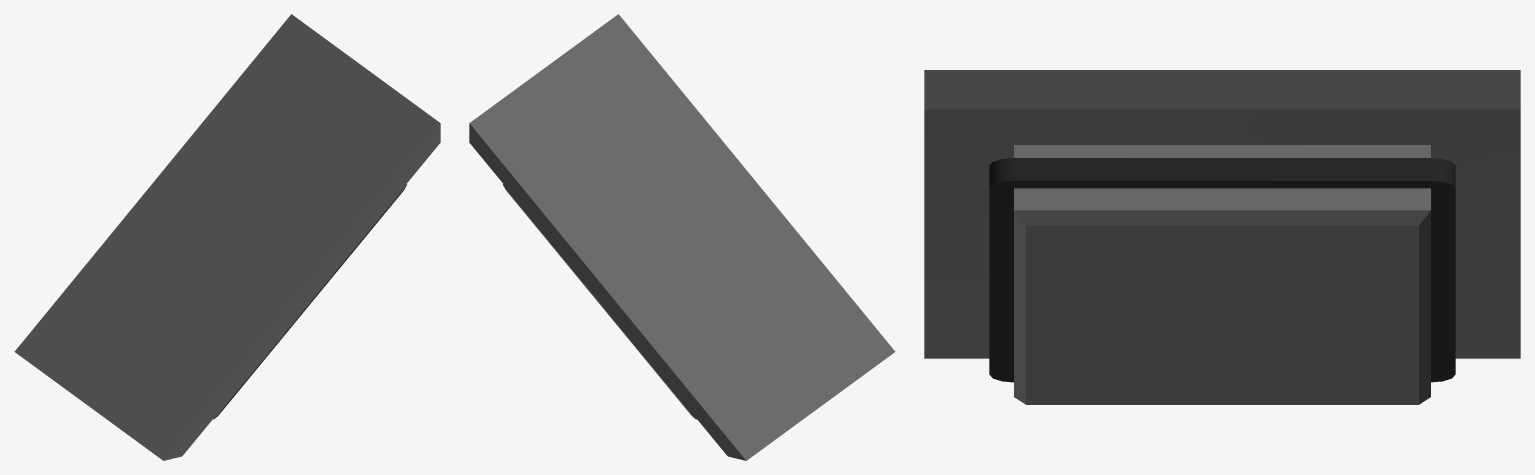
The model's file is Ceiling_45_1.fbx.
3 renders of one model, left to right at view 1: azimuth 30°, elevation 25°; view 2: azimuth 150°, elevation 25°; view 3: azimuth 270°, elevation 25°, orthographic. The views are drawn at different scales.
Parts seen in each view (by area): view 1: Plane.001, Plane.002; view 2: Plane.001, Plane.002; view 3: Plane.001, Plane.002.
Boxes of the visible parts, box(x1,y1,x2,y2) form: Plane.001: box(14, 14, 440, 460); Plane.002: box(213, 184, 406, 419); Plane.001: box(469, 14, 895, 460); Plane.002: box(503, 184, 696, 419); Plane.001: box(924, 70, 1520, 382); Plane.002: box(1014, 188, 1430, 404).
Size of the model in its own units: 214 by 200 by 200.
